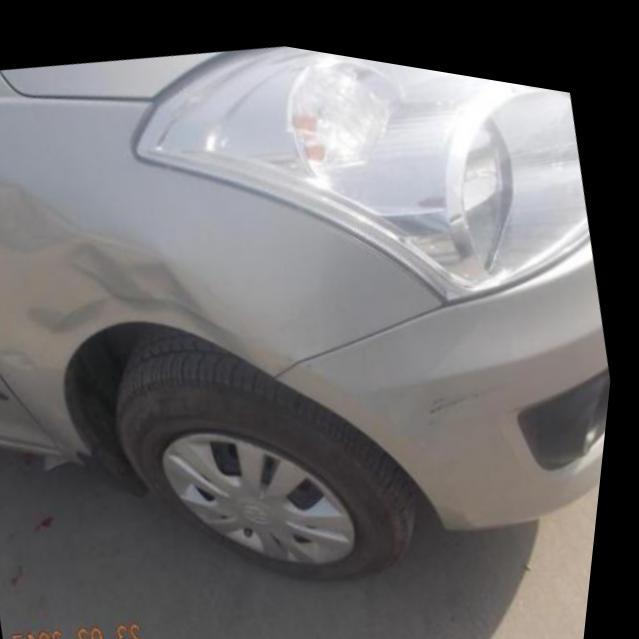dent: (0, 183, 248, 361)
